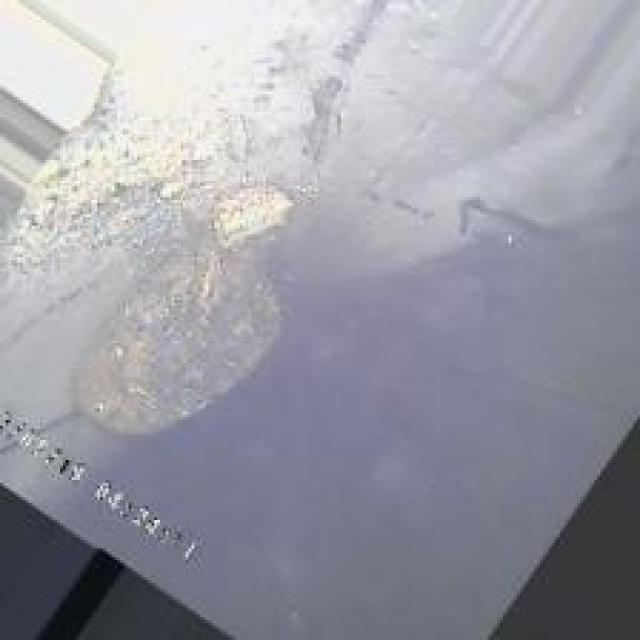stone: (77, 237, 300, 434)
